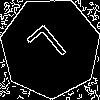L: (25, 23, 74, 75)
